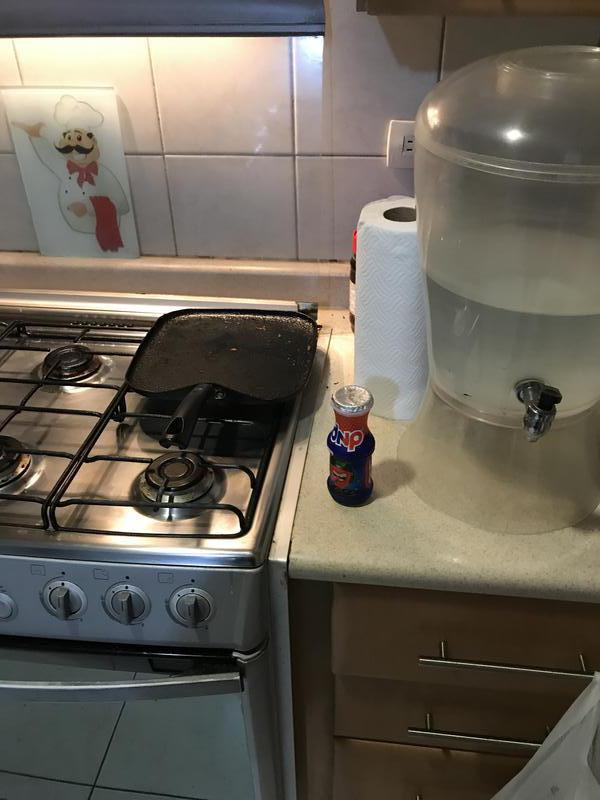danup: (325, 388, 377, 510)
